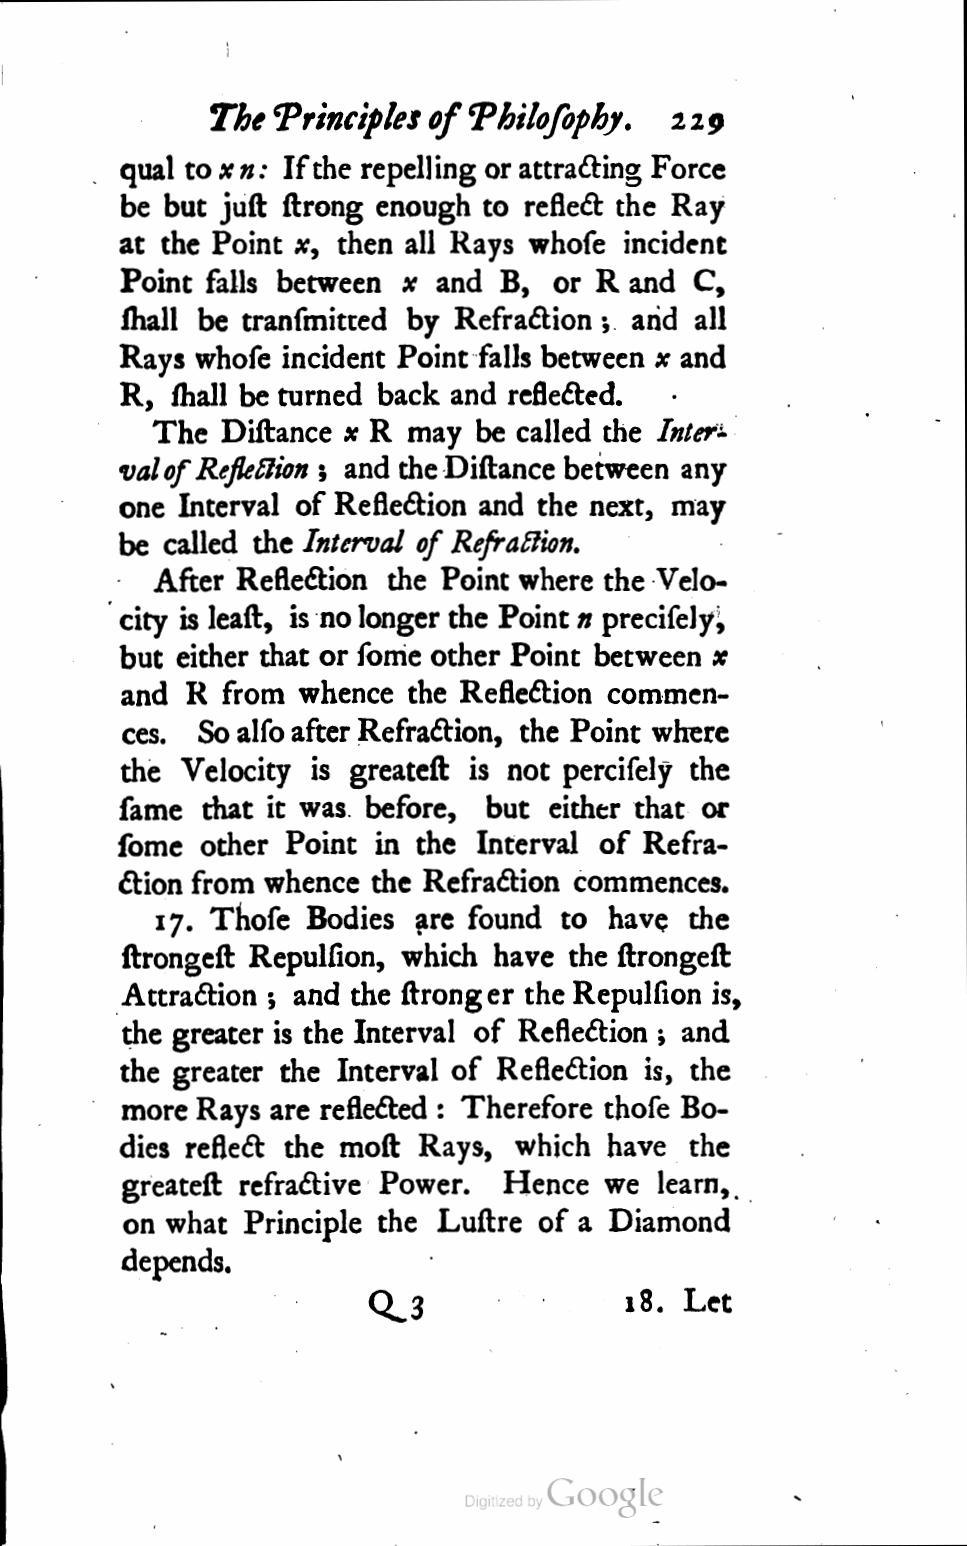bottom_p: (118, 151, 731, 413)
catchword: (622, 1286, 736, 1317)
full_p: (118, 902, 743, 1284), (117, 564, 732, 899), (117, 414, 730, 561)
header: (204, 97, 636, 141)
page_num: (667, 109, 726, 138)
signature: (364, 1286, 431, 1327)
